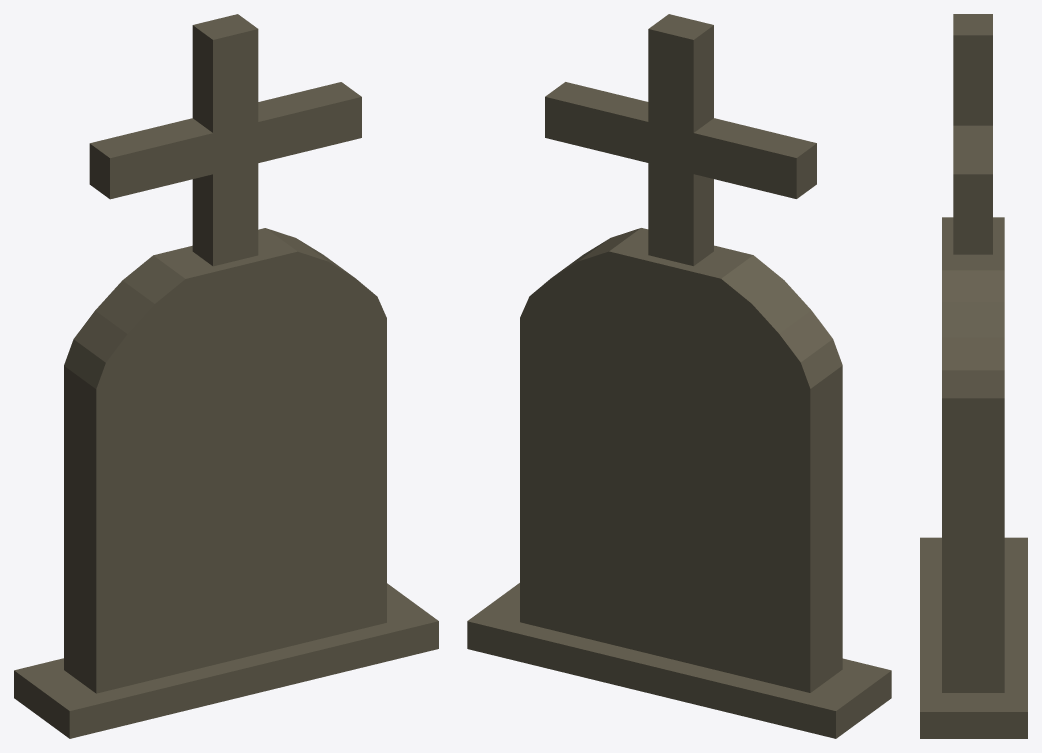
The model's file is grave_03.fbx.
3 renders of one model, left to right at view 1: azimuth 30°, elevation 25°; view 2: azimuth 150°, elevation 25°; view 3: azimuth 270°, elevation 25°, orthographic. The views are drawn at different scales.
Parts seen in each view (by area): view 1: grave 3; view 2: grave 3; view 3: grave 3.
Boxes of the visible parts, x1,y1,x2,y2 form: grave 3: (14, 14, 438, 738); grave 3: (467, 14, 891, 738); grave 3: (920, 14, 1027, 738).
Bounding box in the file's own units: 89.91 × 151 × 23.53.
